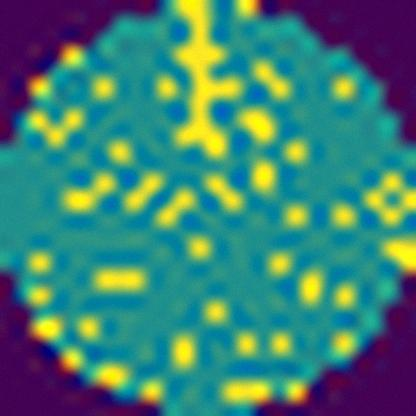Scratch: (152, 0, 259, 172)
